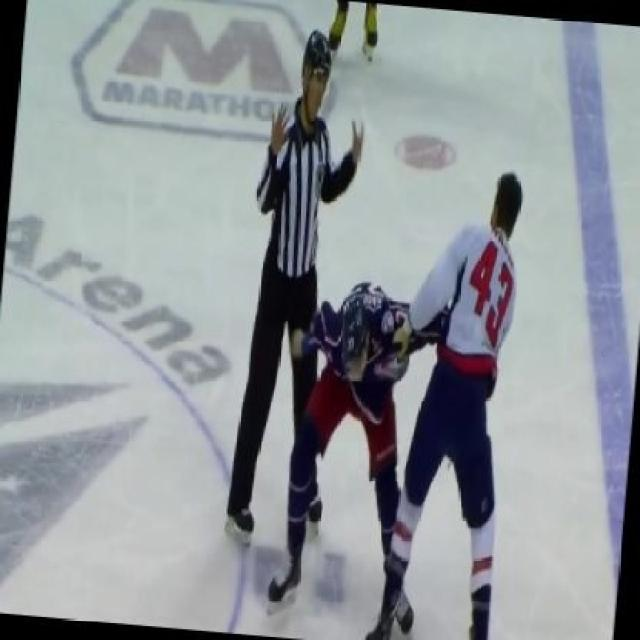fight: (266, 171, 519, 640), (226, 31, 369, 538)
